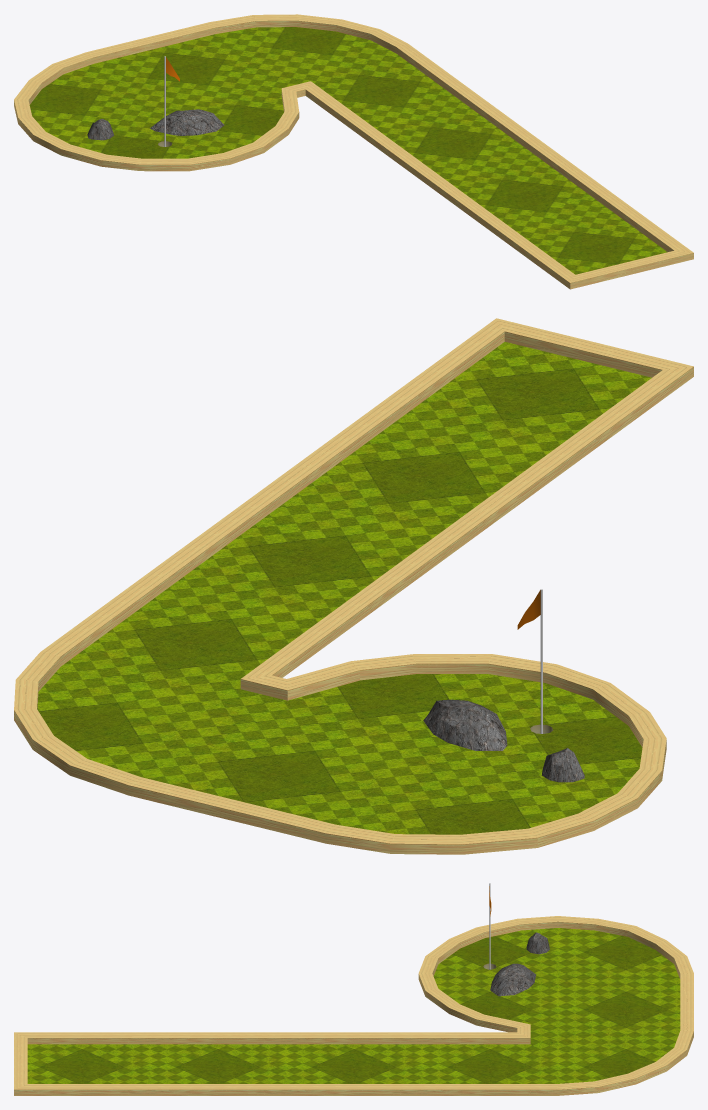
File: course1_hole8.fbx
The picture shows the model from 3 angles, top to bottom: view 1: azimuth 30°, elevation 25°; view 2: azimuth 150°, elevation 25°; view 3: azimuth 270°, elevation 25°; orthographic projection. The views are drawn at different scales.
Visible parts, largest first — view 1: course1_hole8_ground, course1_hole8_walls, course1_hole8_rocks; view 2: course1_hole8_ground, course1_hole8_walls, course1_hole8_rocks; view 3: course1_hole8_ground, course1_hole8_walls, course1_hole8_rocks.
Boxes of the visible parts, x1,y1,x2,y2 form: course1_hole8_ground: (29,27,667,274); course1_hole8_walls: (14,14,693,289); course1_hole8_rocks: (87,109,224,140); course1_hole8_ground: (37,342,651,834); course1_hole8_walls: (14,318,693,854); course1_hole8_rocks: (423,699,584,782); course1_hole8_ground: (27,928,680,1083); course1_hole8_walls: (14,916,693,1095); course1_hole8_rocks: (490,932,549,996).
Bounding box in the file's own units: 9.08 × 2.25 × 15.
